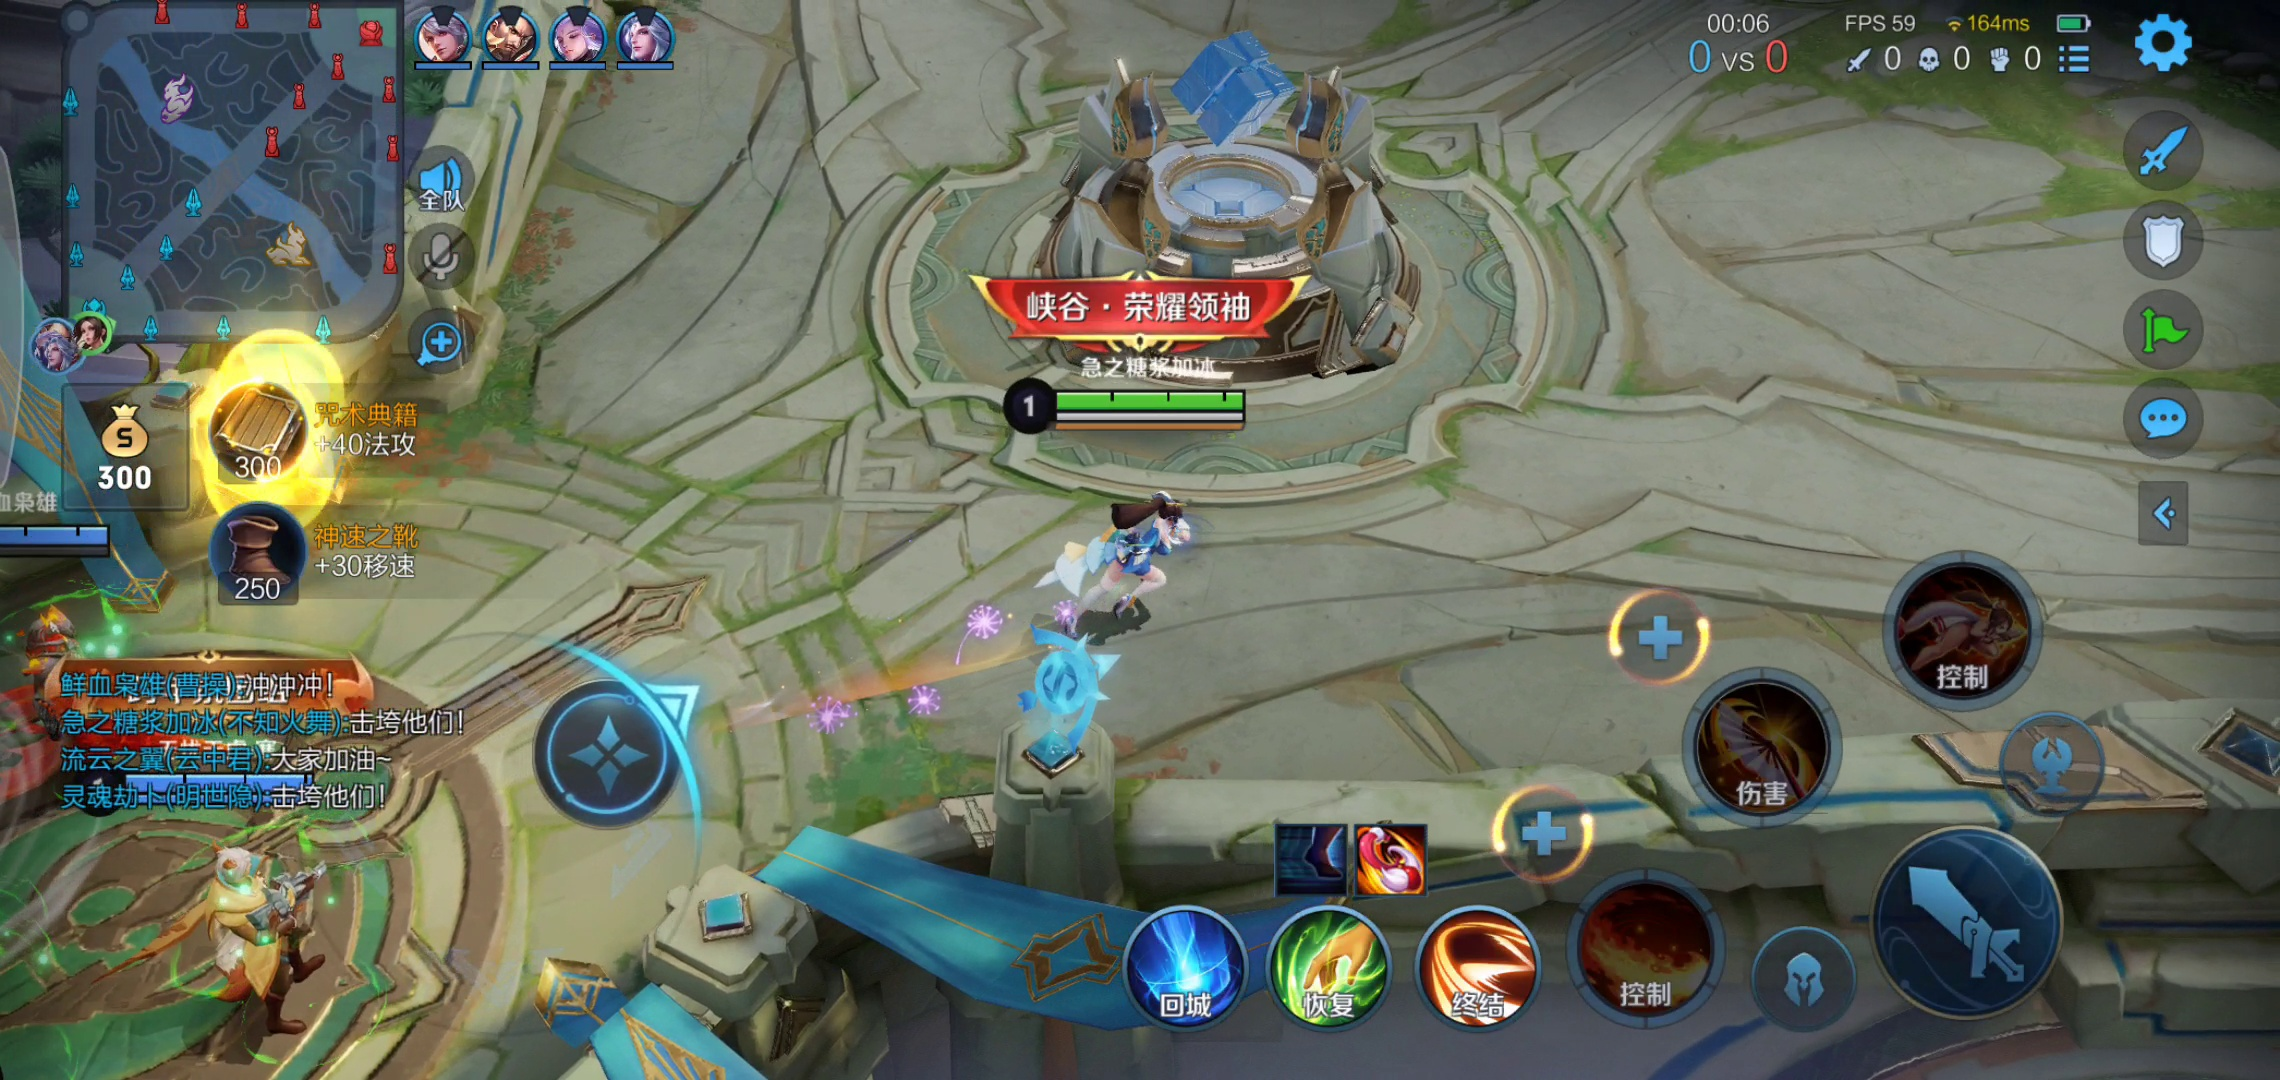crystal: (1000, 26, 1454, 381)
hero: (161, 843, 361, 1009), (1038, 475, 1204, 638), (19, 613, 131, 805)
